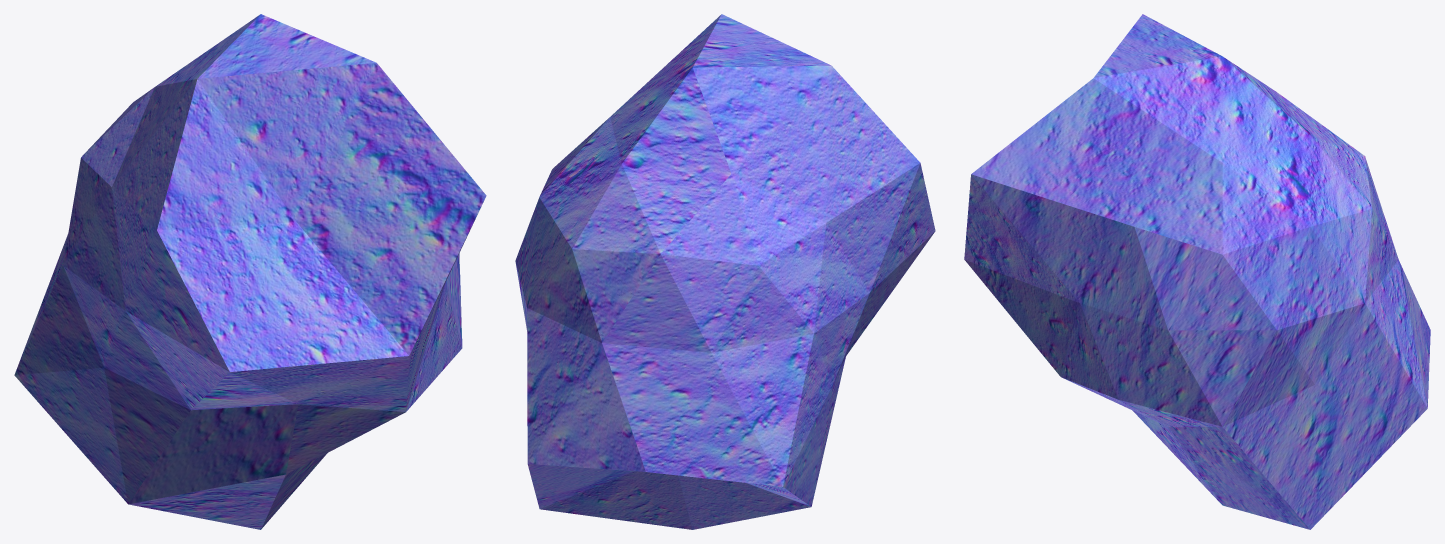
The model's file is mediumasteroid8_LOD4.fbx.
The picture shows the model from 3 angles, left to right: view 1: azimuth 30°, elevation 25°; view 2: azimuth 150°, elevation 25°; view 3: azimuth 270°, elevation 25°; orthographic projection. The views are drawn at different scales.
Parts seen in each view (by area): view 1: Icosphere; view 2: Icosphere; view 3: Icosphere.
Boxes of the visible parts, x1,y1,x2,y2 form: Icosphere: [14, 14, 486, 529]; Icosphere: [515, 14, 935, 529]; Icosphere: [964, 14, 1430, 529].
Bounding box in the file's own units: 199 × 281 × 265.
